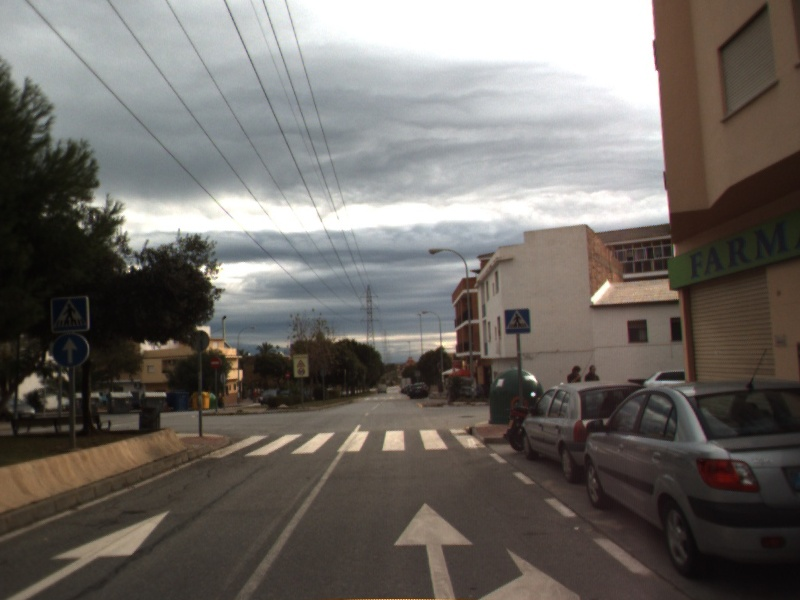STRAIGHT: (2, 508, 173, 600)
STRAIGHT_RIGHT: (390, 499, 585, 600)
